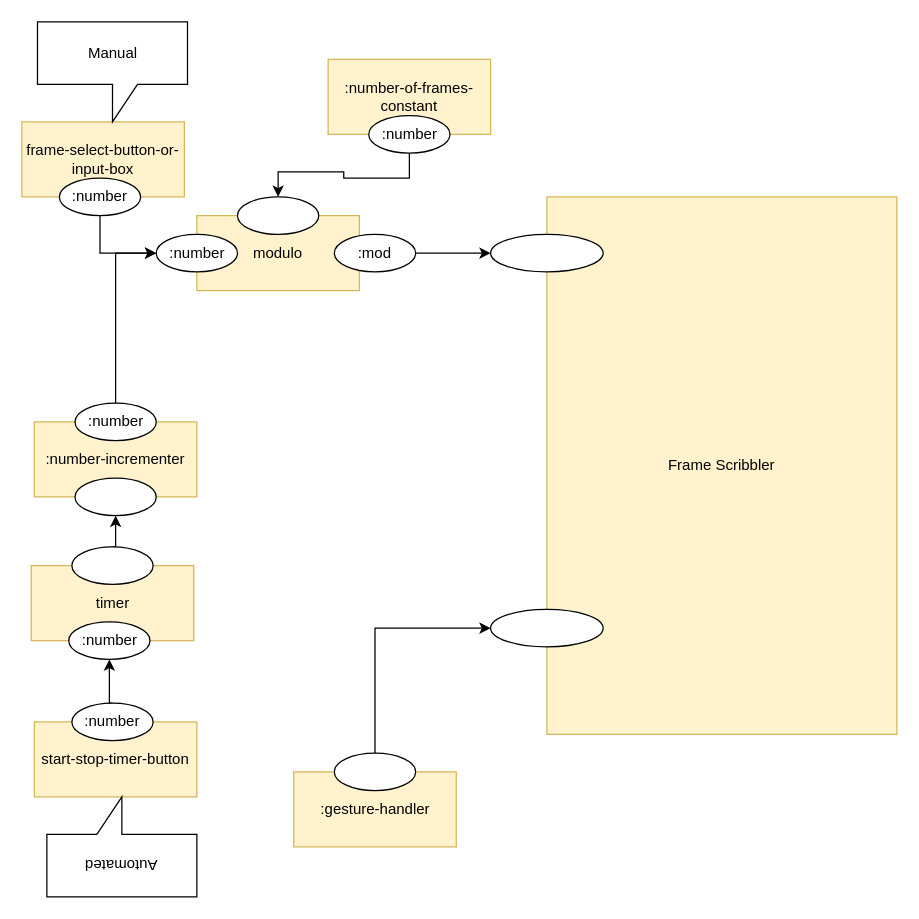
This 919x919 diagram has some shape labels left out. Each missing label, with the centre of its shape:
":frame-number" belongs at (546,252).
":inc" belongs at (115,496).
":mod-what" belongs at (277,215).
":pointer-input" belongs at (546,627).
":pulse" belongs at (112,565).
":x-y" belongs at (374,771).
